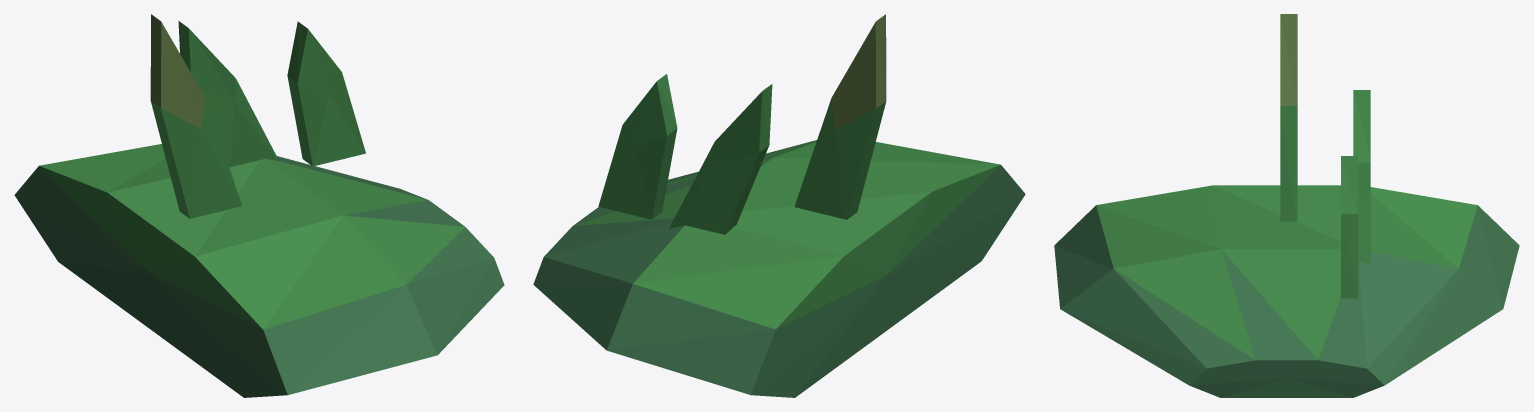
The model's file is ledge_z2_kelp_cap_r.glb.
The picture shows the model from 3 angles, left to right: view 1: azimuth 30°, elevation 25°; view 2: azimuth 150°, elevation 25°; view 3: azimuth 270°, elevation 25°; orthographic projection. The views are drawn at different scales.
Parts seen in each view (by area): view 1: ledge_z2_kelp_cap_r; view 2: ledge_z2_kelp_cap_r; view 3: ledge_z2_kelp_cap_r.
Part boxes in pixels (x1,y1,x2,y2): ledge_z2_kelp_cap_r: (14, 14, 504, 397); ledge_z2_kelp_cap_r: (533, 14, 1025, 397); ledge_z2_kelp_cap_r: (1054, 14, 1519, 397).
Size of the model in its own units: 1 by 1 by 1.6.
